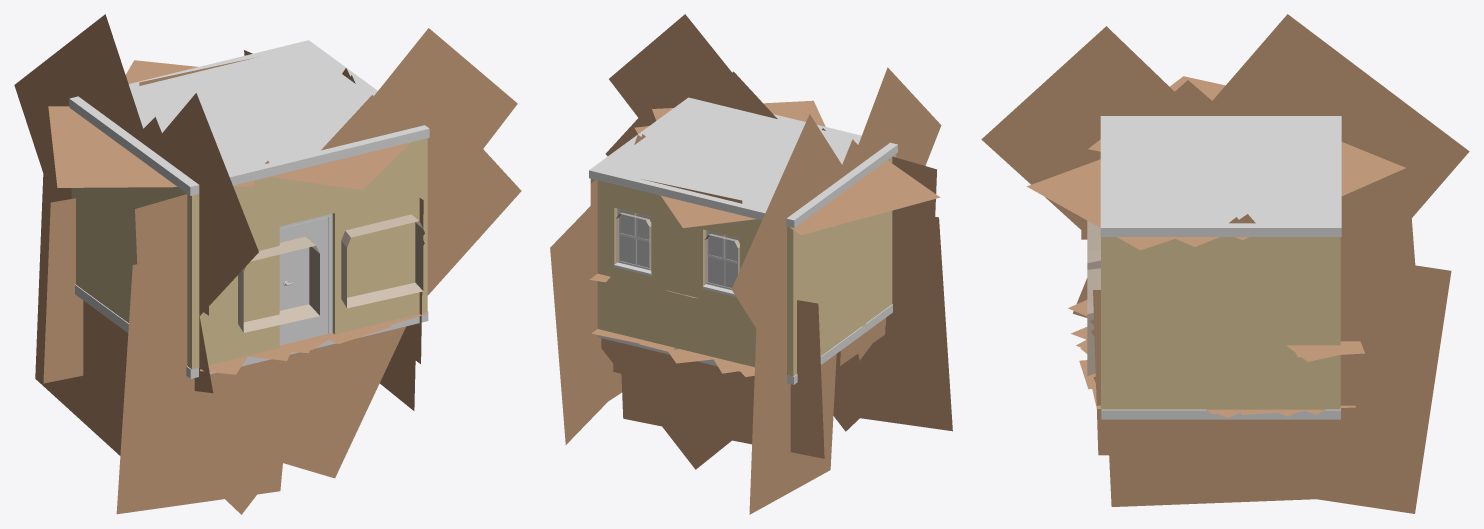
Rendered from FloorPlan4_Backup.fbx.
3 renders of one model, left to right at view 1: azimuth 30°, elevation 25°; view 2: azimuth 150°, elevation 25°; view 3: azimuth 270°, elevation 25°, orthographic. The views are drawn at different scales.
Visible parts, largest first — view 1: Decals.047, Window.004, Ceiling.006, Door.005, Baseboard.030, Baseboard.029, Floor.007, Decals.031, DoorFrame.005, Decals.032; view 2: Decals.047, Window.004, Ceiling.006, Decals.033, Floor.007; view 3: Decals.047, Window.004, Ceiling.006, Floor.007, Decals.034, Baseboard.029, Baseboard.030, Decals.032.
Boxes of the visible parts, x1,y1,x2,y2 form: Decals.047: [14, 14, 521, 514]; Window.004: [71, 138, 427, 369]; Ceiling.006: [69, 40, 429, 195]; Door.005: [281, 217, 327, 344]; Baseboard.030: [238, 237, 319, 332]; Baseboard.029: [341, 214, 423, 308]; Floor.007: [75, 284, 428, 378]; Decals.031: [200, 337, 315, 374]; DoorFrame.005: [279, 213, 332, 345]; Decals.032: [288, 312, 427, 349]; Decals.047: [550, 14, 952, 514]; Window.004: [590, 154, 896, 376]; Ceiling.006: [589, 97, 897, 227]; Decals.033: [591, 329, 754, 376]; Floor.007: [597, 304, 892, 384]; Decals.047: [981, 14, 1469, 513]; Window.004: [1101, 237, 1340, 409]; Ceiling.006: [1100, 116, 1341, 236]; Floor.007: [1101, 408, 1340, 419]; Decals.034: [1286, 341, 1364, 361]; Baseboard.029: [1087, 268, 1100, 375]; Baseboard.030: [1087, 221, 1100, 269]; Decals.032: [1079, 347, 1325, 417].
Bounding box in the file's own units: 772 × 772 × 766.
